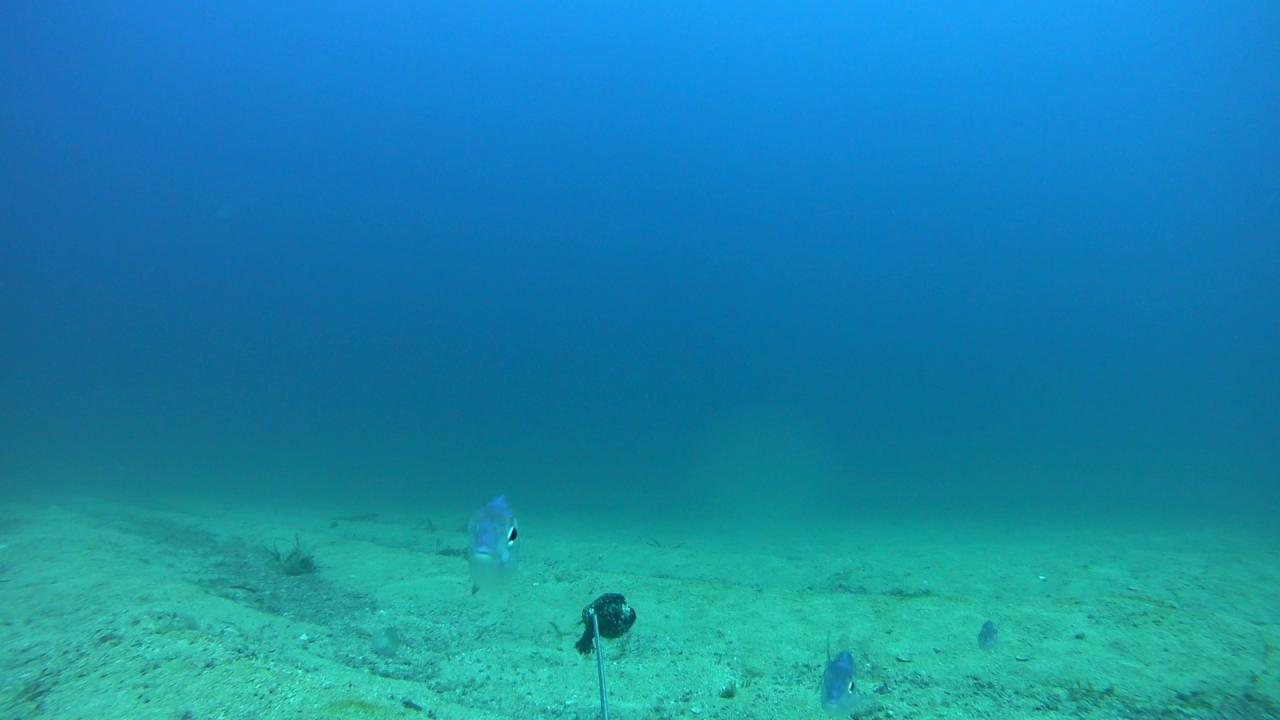pagellus: (466, 492, 520, 592), (818, 650, 856, 716)
